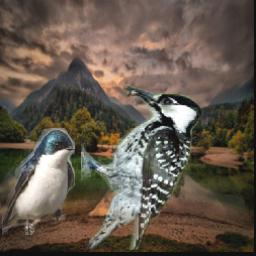Swallow: (2, 128, 75, 235)
Woodpecker: (80, 83, 200, 250)
